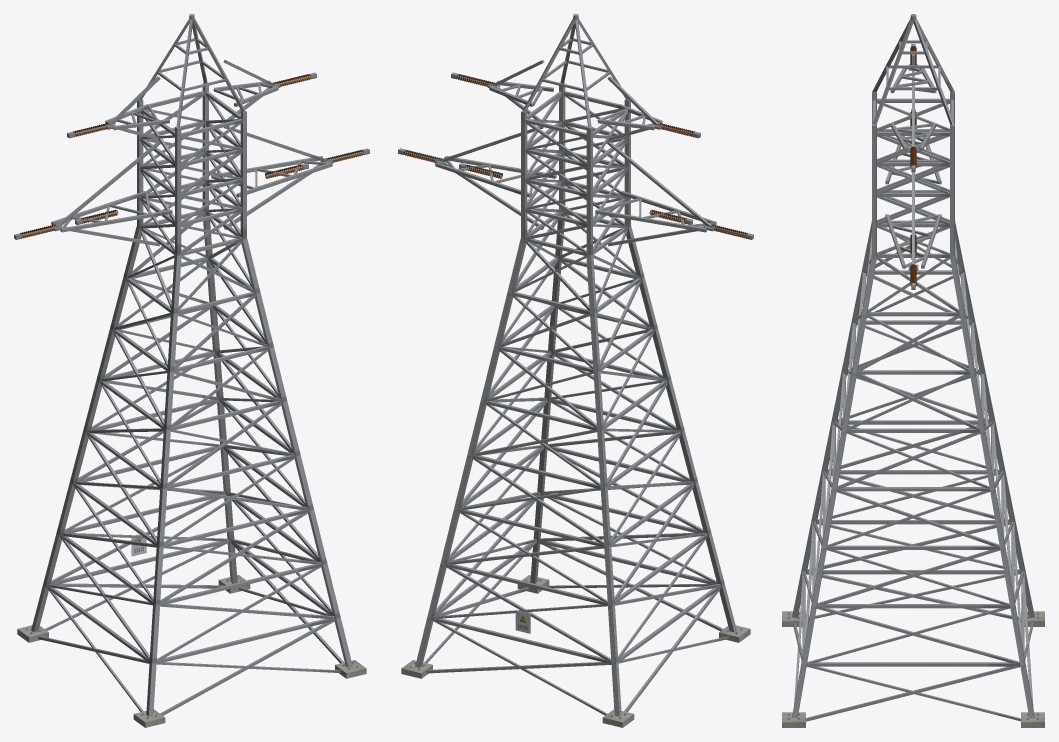
The model's file is lattice_tension.obj.
3 renders of one model, left to right at view 1: azimuth 30°, elevation 25°; view 2: azimuth 150°, elevation 25°; view 3: azimuth 270°, elevation 25°, orthographic. The views are drawn at different scales.
Visible parts, largest first — view 1: body, arm, footing; view 2: body, arm, footing; view 3: body, arm, footing.
Part boxes in pixels (bbox=[...]): body: bbox=[31, 18, 352, 716]; arm: bbox=[51, 60, 333, 246]; footing: bbox=[17, 575, 366, 727]; body: bbox=[415, 18, 736, 716]; arm: bbox=[434, 60, 716, 246]; footing: bbox=[401, 575, 750, 727]; body: bbox=[792, 18, 1034, 721]; arm: bbox=[885, 54, 941, 270]; footing: bbox=[782, 611, 1044, 727].
Size of the model in its own units: 6.68 by 11.55 by 4.18.
